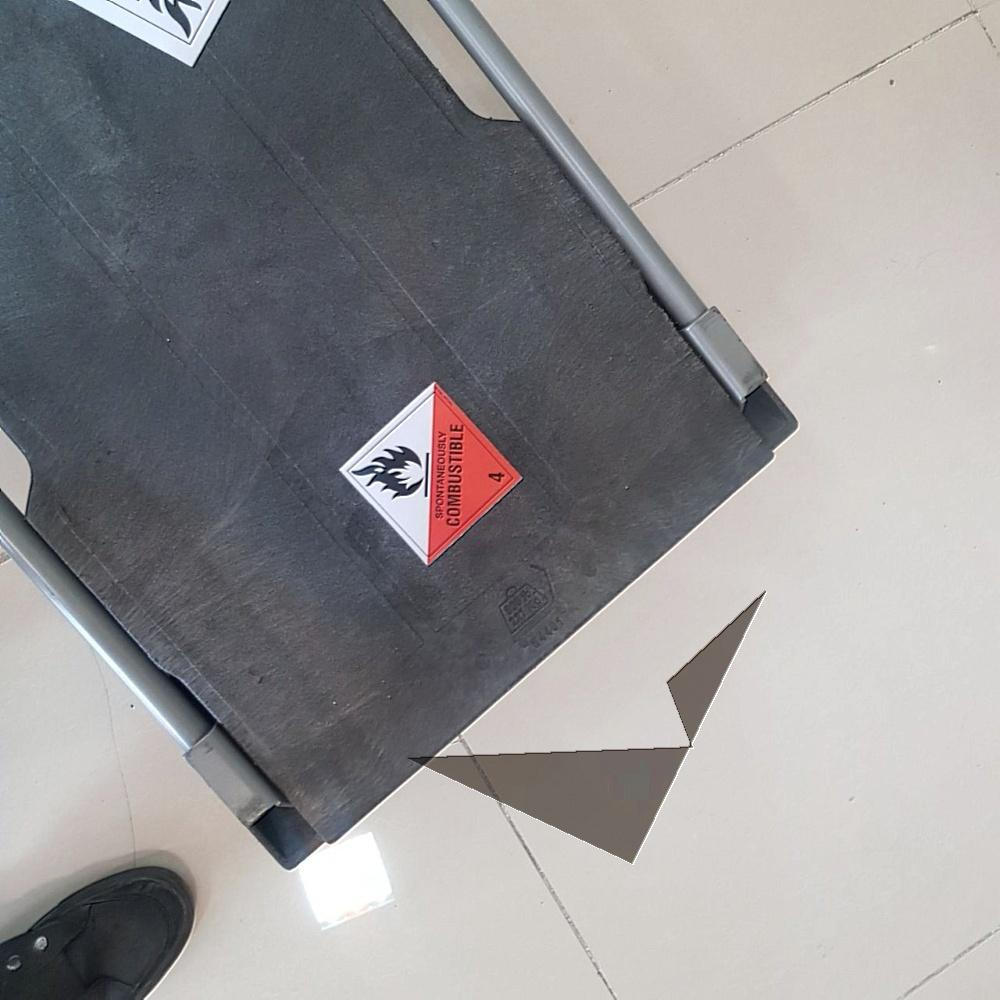spontaneously-combustible: (340, 380, 523, 565)
